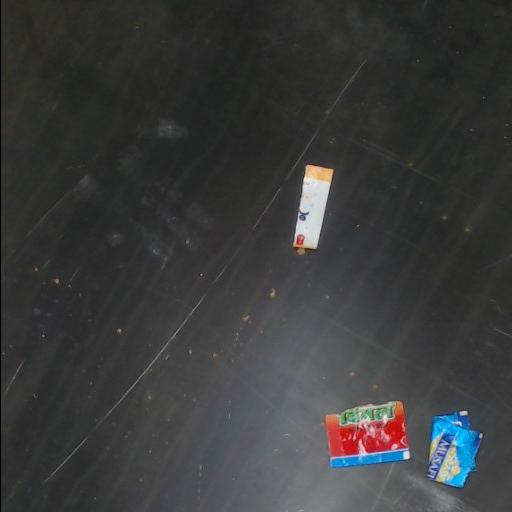conveyor belt: (1, 0, 512, 511)
packet: (325, 401, 408, 466), (428, 410, 481, 486), (293, 165, 333, 250)
